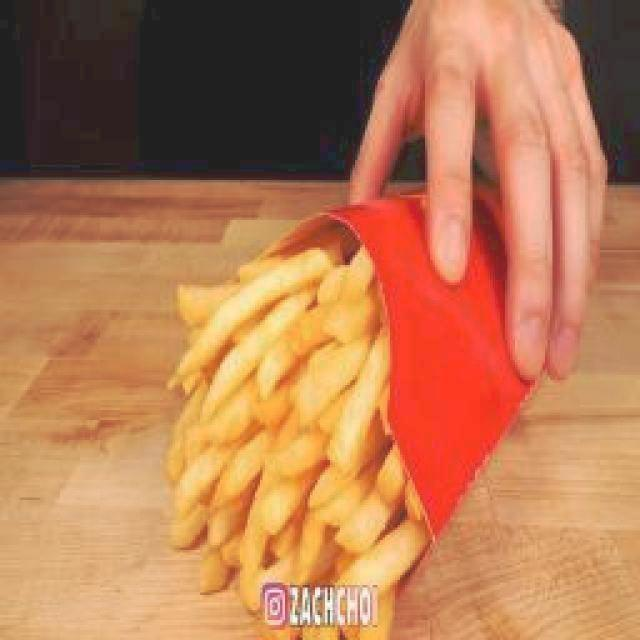french fries: (172, 250, 433, 634)
